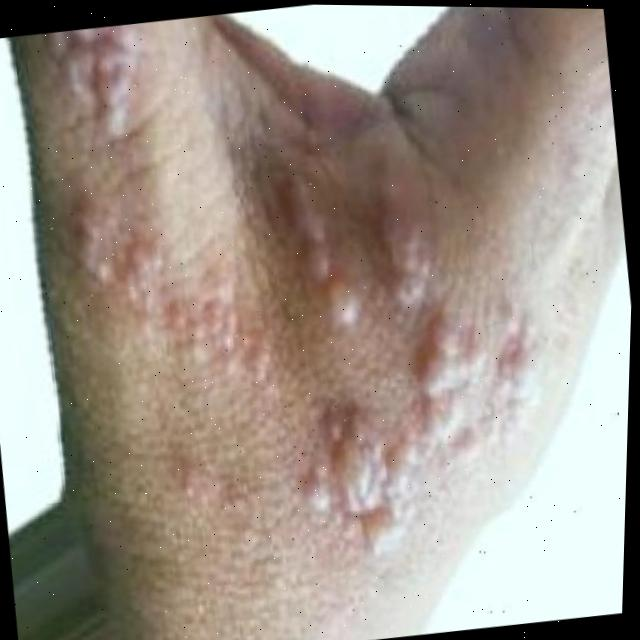Shingles: (17, 1, 558, 570)
